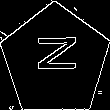N_W: (31, 40, 80, 81)
